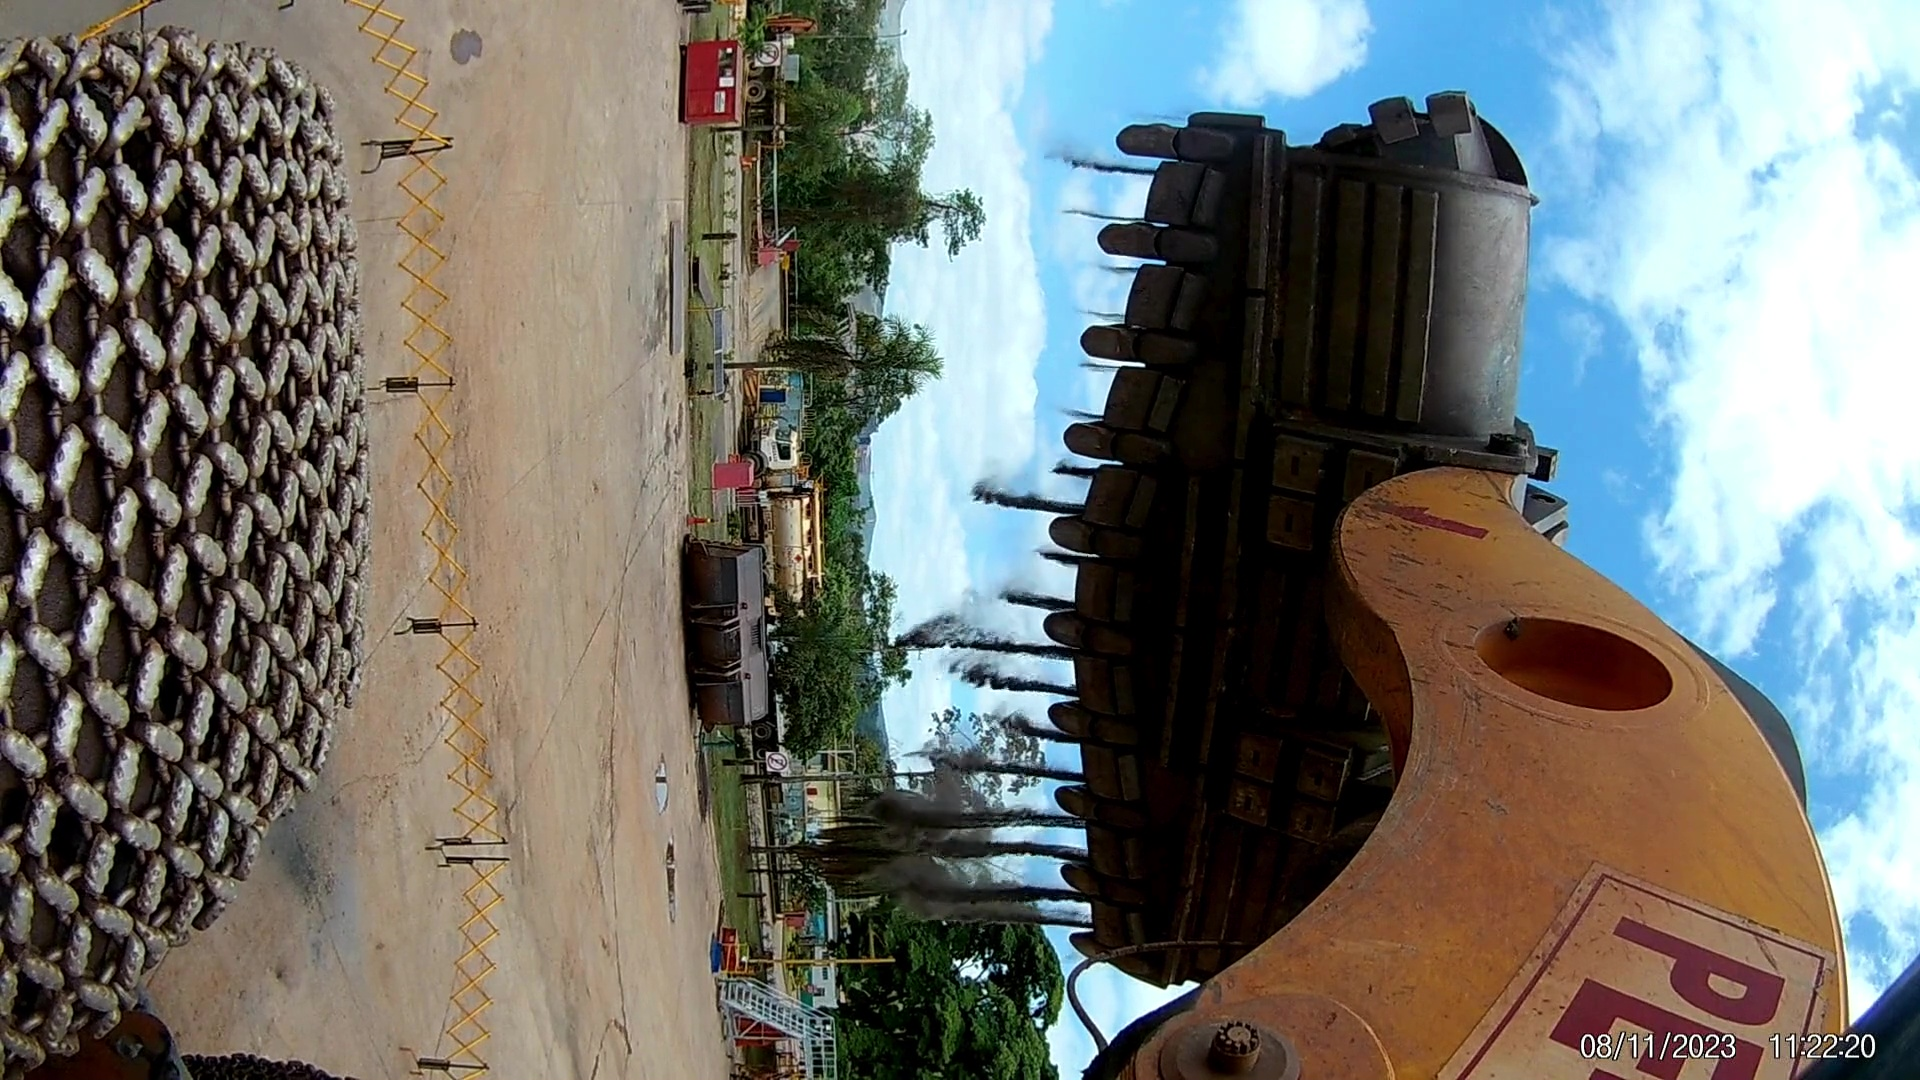FPS: (1011, 411, 1168, 481), (1087, 123, 1261, 185), (1039, 502, 1151, 582), (1056, 310, 1204, 363), (1104, 215, 1225, 265), (1000, 615, 1125, 662), (1035, 785, 1127, 833), (1030, 860, 1137, 893), (1062, 936, 1145, 978), (1039, 705, 1120, 731)
